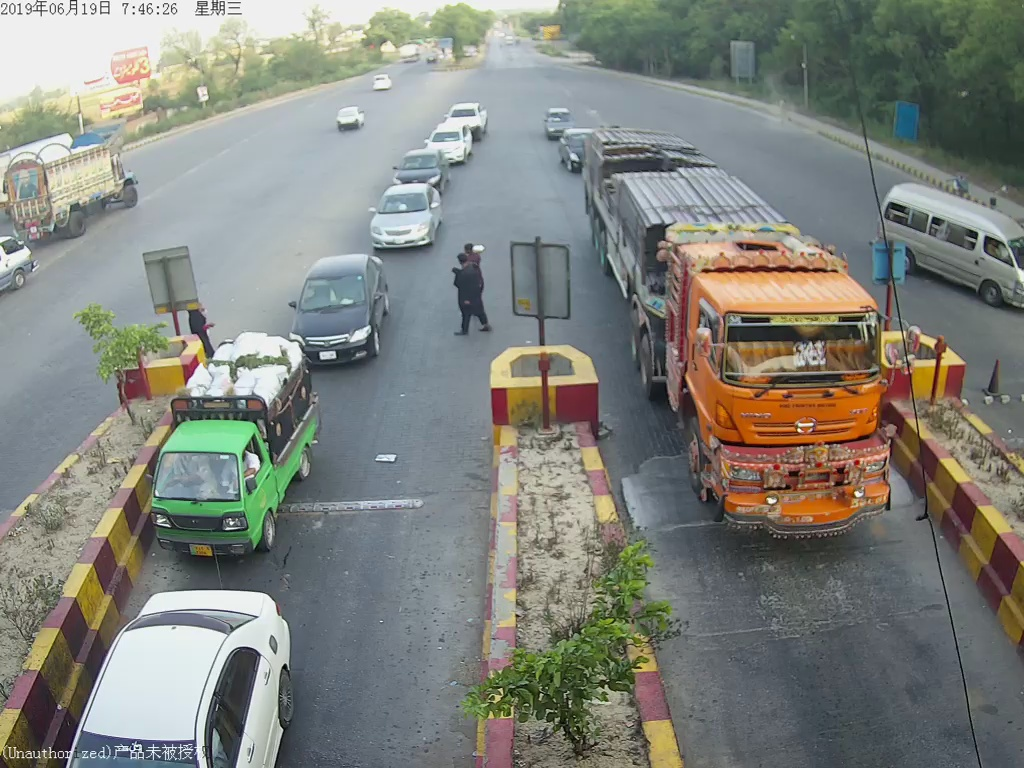Cat-1: (156, 331, 326, 556), (368, 186, 433, 249)
Cat-5: (611, 176, 897, 544)
